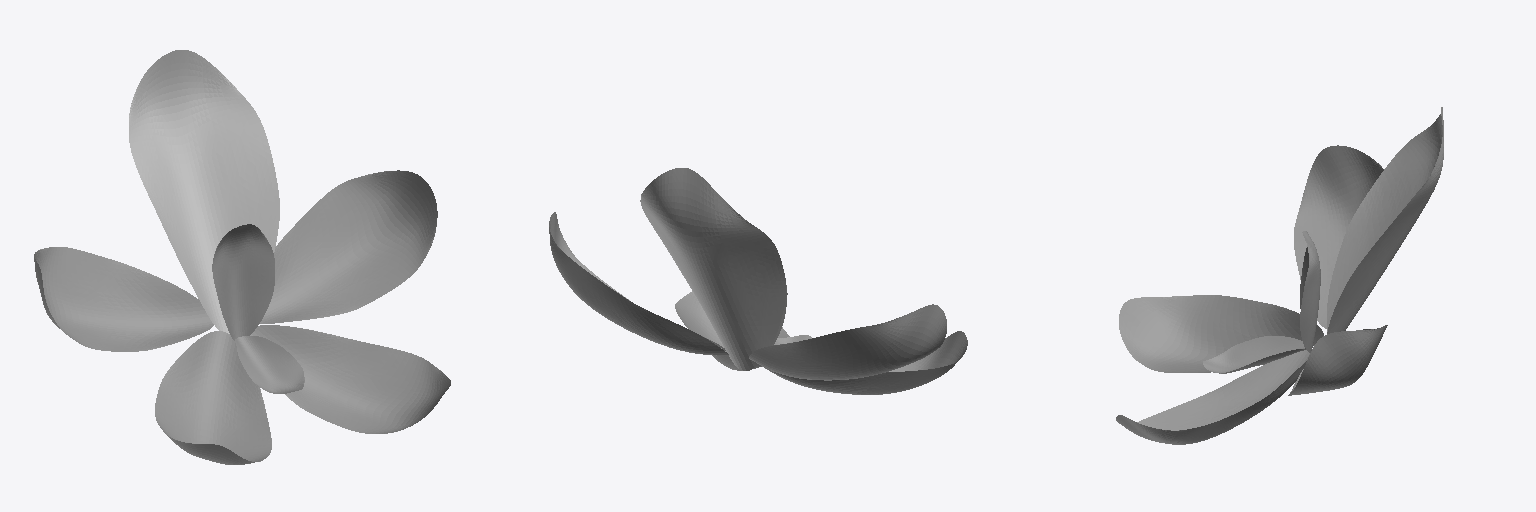
File: fleur_08.obj
3 views of the same model, side by side, from view 1: azimuth 30°, elevation 25°; view 2: azimuth 150°, elevation 25°; view 3: azimuth 270°, elevation 25° (orthographic).
Parts seen in each view (by area): view 1: petaleDos_petaleDos1_petaleDos2, petaleCote_Cloner_Face_1_0_Face_1_01, petaleCote_Cloner_Face_1_3_Face_1_31, petaleCote_Cloner_Face_1_1_Face_1_11, petaleCote_Cloner_Face_1_2_Face_1_21, coeur_petaleCoeur1_petaleCoeur2, coeur2_petaleCoeur; view 2: petaleDos_petaleDos1_petaleDos2, petaleCote_Cloner_Face_1_3_Face_1_31, petaleCote_Cloner_Face_1_0_Face_1_01, petaleCote_Cloner_Face_1_2_Face_1_21, petaleCote_Cloner_Face_1_1_Face_1_11; view 3: petaleDos_petaleDos1_petaleDos2, petaleCote_Cloner_Face_1_2_Face_1_21, petaleCote_Cloner_Face_1_3_Face_1_31, petaleCote_Cloner_Face_1_1_Face_1_11, petaleCote_Cloner_Face_1_0_Face_1_01, coeur2_petaleCoeur, coeur_petaleCoeur1_petaleCoeur2.
Part boxes in pixels (x1,y1,x2,y2): petaleDos_petaleDos1_petaleDos2: (129,50,279,333); petaleCote_Cloner_Face_1_0_Face_1_01: (260,170,437,323); petaleCote_Cloner_Face_1_3_Face_1_31: (34,247,213,351); petaleCote_Cloner_Face_1_1_Face_1_11: (250,325,450,433); petaleCote_Cloner_Face_1_2_Face_1_21: (155,331,271,464); coeur_petaleCoeur1_petaleCoeur2: (212,224,274,340); coeur2_petaleCoeur: (236,336,304,393); petaleDos_petaleDos1_petaleDos2: (640,168,785,370); petaleCote_Cloner_Face_1_3_Face_1_31: (749,304,946,380); petaleCote_Cloner_Face_1_0_Face_1_01: (549,212,728,355); petaleCote_Cloner_Face_1_2_Face_1_21: (762,331,967,394); petaleCote_Cloner_Face_1_1_Face_1_11: (675,291,789,370); petaleDos_petaleDos1_petaleDos2: (1327,107,1443,333); petaleCote_Cloner_Face_1_2_Face_1_21: (1119,295,1323,372); petaleCote_Cloner_Face_1_3_Face_1_31: (1294,145,1383,328); petaleCote_Cloner_Face_1_1_Face_1_11: (1116,350,1309,444); petaleCote_Cloner_Face_1_0_Face_1_01: (1288,325,1387,395); coeur2_petaleCoeur: (1203,336,1305,373); coeur_petaleCoeur1_petaleCoeur2: (1300,231,1320,352).
Size of the model in its own units: 1.58 by 1.13 by 1.15.